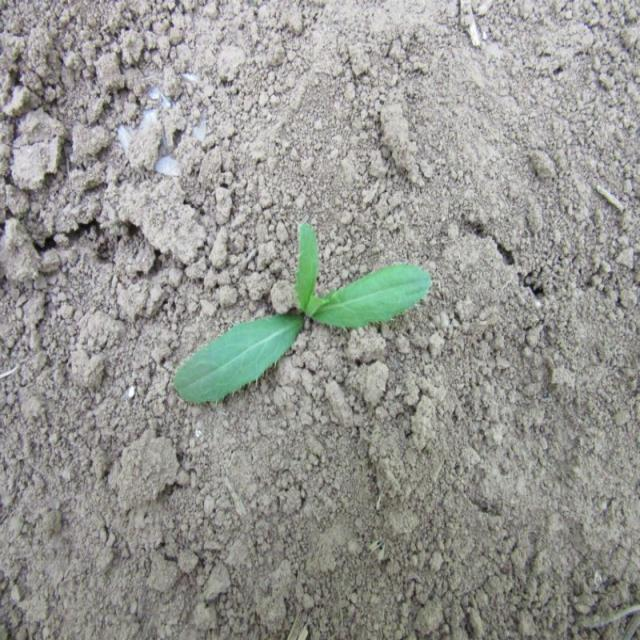field_thistle: (133, 209, 422, 392)
